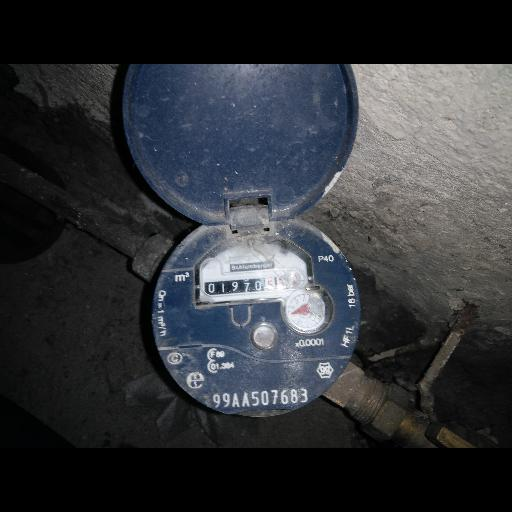0: (204, 282, 220, 296), (254, 278, 266, 293)
1: (217, 280, 231, 294)
5: (265, 277, 278, 292)
7: (241, 279, 255, 293)
9: (230, 280, 243, 294)
border_water_meter_number: (201, 266, 307, 298)
